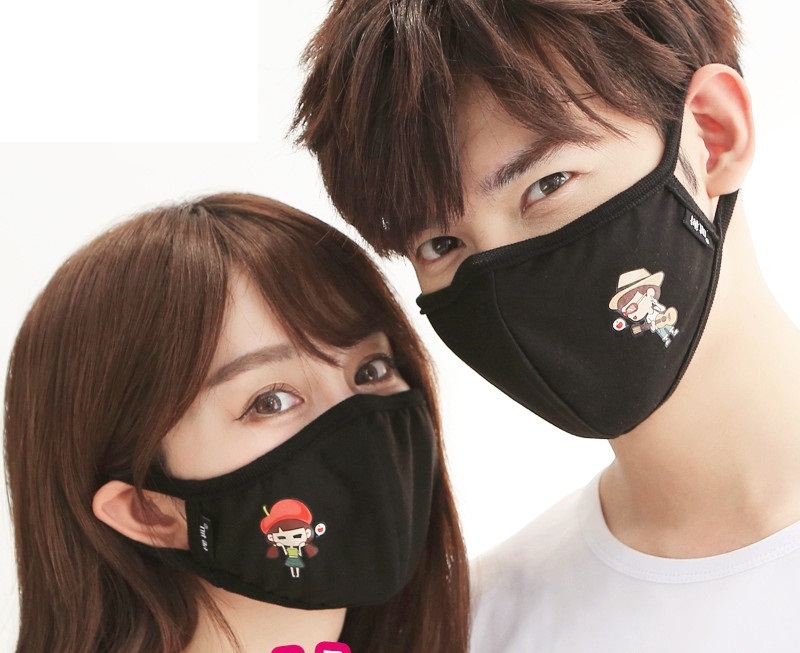face_mask: (410, 63, 695, 435), (204, 280, 433, 603)
